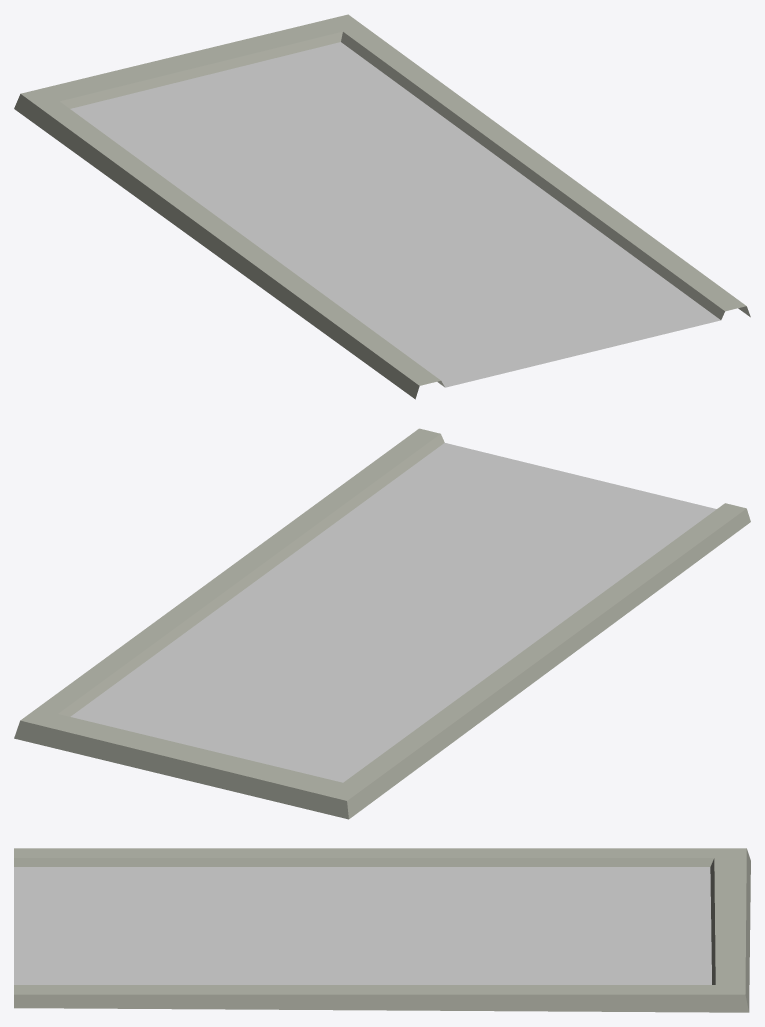
Rendered from ParkRoad_5_D.fbx.
The picture shows the model from 3 angles, top to bottom: view 1: azimuth 30°, elevation 25°; view 2: azimuth 150°, elevation 25°; view 3: azimuth 270°, elevation 25°; orthographic projection. The views are drawn at different scales.
Visible parts, largest first — view 1: ParkRoad_5_D; view 2: ParkRoad_5_D; view 3: ParkRoad_5_D.
Boxes of the visible parts, box(x1,y1,x2,y2) form: ParkRoad_5_D: box(14, 14, 750, 399); ParkRoad_5_D: box(14, 428, 750, 819); ParkRoad_5_D: box(14, 848, 750, 1012).
Size of the model in its own units: 200 by 9.99 by 415.
